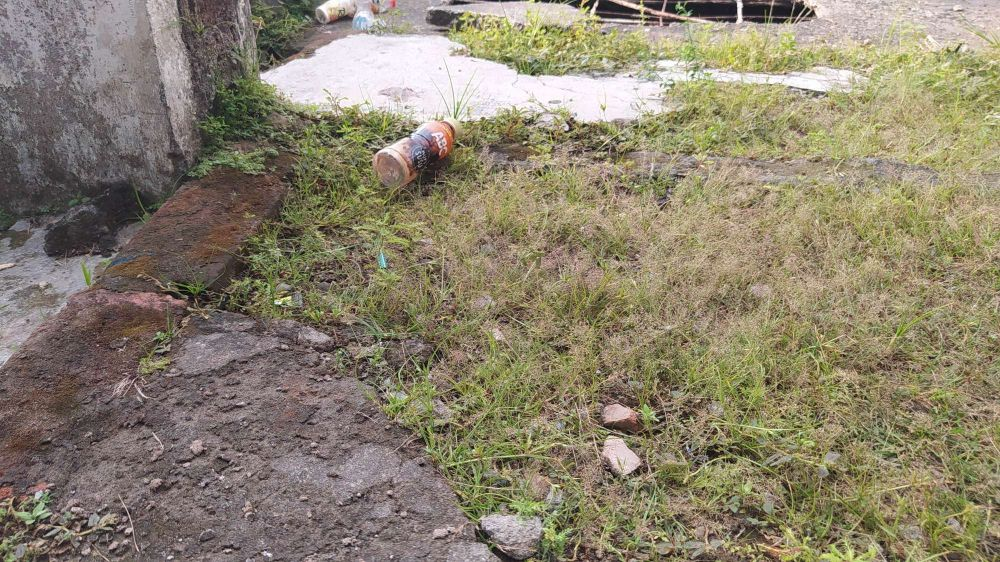botol: (346, 83, 471, 189)
